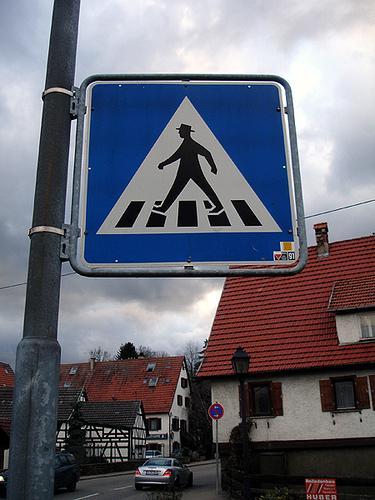car: (1, 447, 82, 494), (128, 449, 207, 492)
traffic sign: (8, 29, 344, 359), (204, 397, 230, 491)
